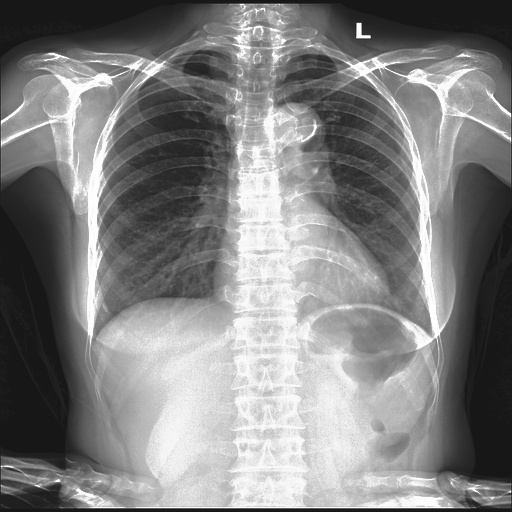Calcification: (171, 47, 216, 53)
Consolidation: (263, 100, 325, 148)
Lung Opacity: (300, 116, 319, 142)
Nodule/Mass: (212, 265, 391, 315)
Other lesion: (103, 303, 110, 313)
Pleural thickening: (207, 53, 237, 85)
Pulmonary fibrosis: (207, 53, 237, 85)
